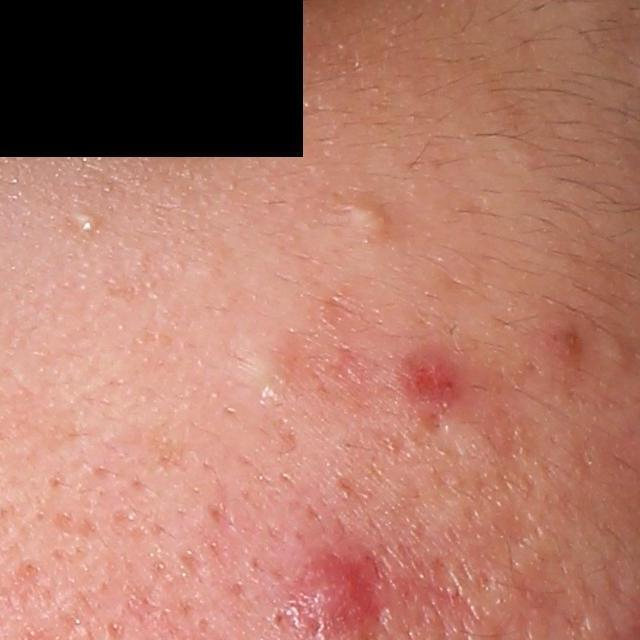comedo: (233, 344, 302, 407), (342, 193, 397, 245), (68, 205, 108, 238)
papule: (408, 351, 458, 400)
